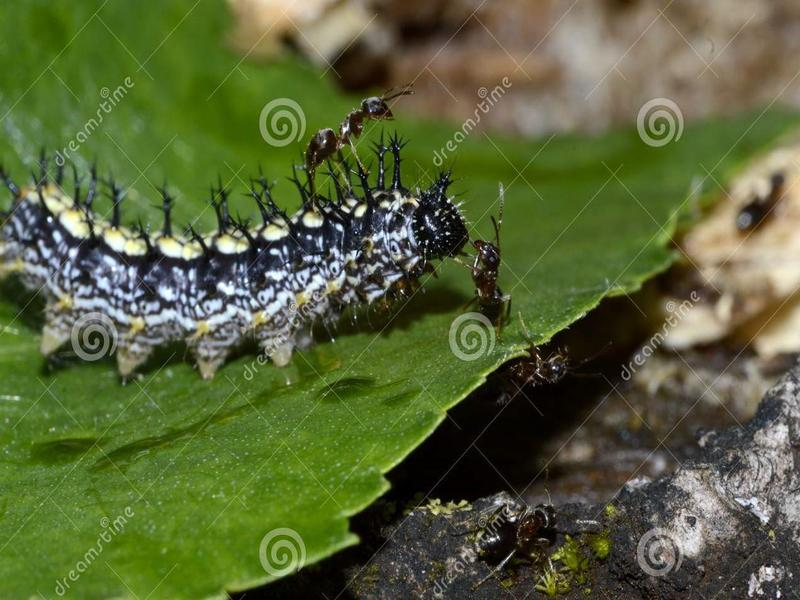Rice_horned_caterpillar: (17, 78, 526, 367), (460, 484, 607, 563)
